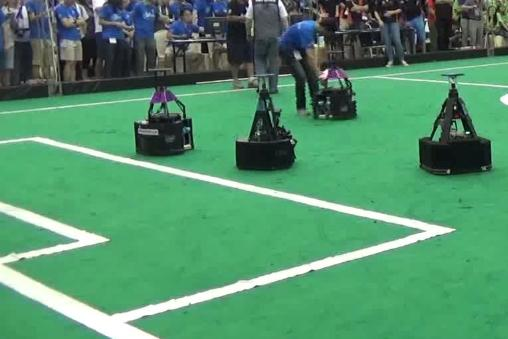robot: (416, 70, 495, 177), (231, 71, 297, 171), (132, 63, 197, 156), (313, 51, 359, 121)
